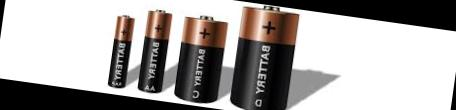battery: (222, 1, 313, 110), (166, 6, 238, 103), (123, 0, 186, 95), (97, 6, 141, 92)
